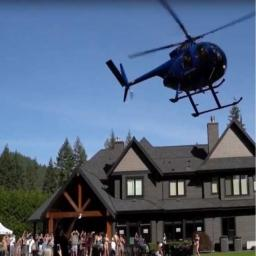helicopter: (103, 1, 252, 121)
